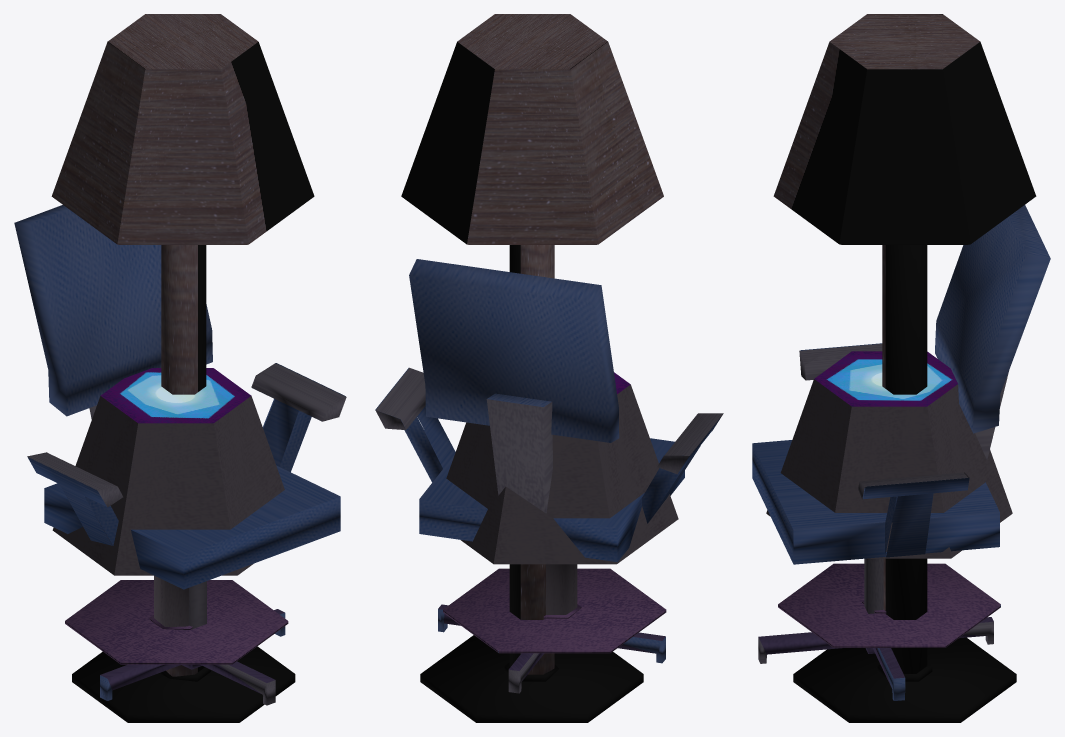
Rendered from chairs_lamps.glb.
The picture shows the model from 3 angles, left to right: view 1: azimuth 30°, elevation 25°; view 2: azimuth 150°, elevation 25°; view 3: azimuth 270°, elevation 25°; orthographic projection.
Parts seen in each view (by area): view 1: long_lamp, chair_office.002, short_lamp; view 2: long_lamp, chair_office.002, short_lamp; view 3: long_lamp, chair_office.002, short_lamp.
Part boxes in pixels (x1=…): long_lamp: x1=51, y1=14, x2=314, y2=722; chair_office.002: x1=14, y1=205, x2=346, y2=705; short_lamp: x1=52, y1=368, x2=288, y2=664; long_lamp: x1=401, y1=14, x2=663, y2=722; chair_office.002: x1=375, y1=259, x2=723, y2=693; short_lamp: x1=443, y1=372, x2=678, y2=653; long_lamp: x1=773, y1=14, x2=1036, y2=722; chair_office.002: x1=752, y1=205, x2=1050, y2=700; short_lamp: x1=766, y1=351, x2=1012, y2=647.
Size of the model in its own units: 1.29 by 2.63 by 1.11.
Materials: 3 (3 with a texture image).
